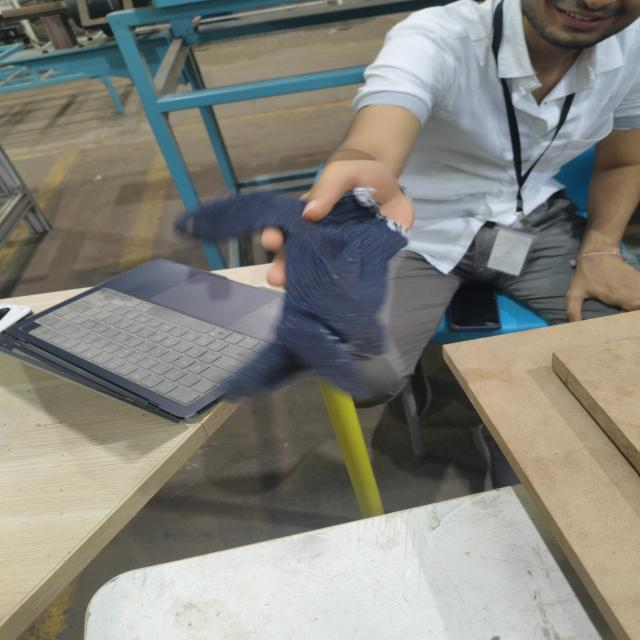Gloves-Detection: (184, 185, 382, 391)
